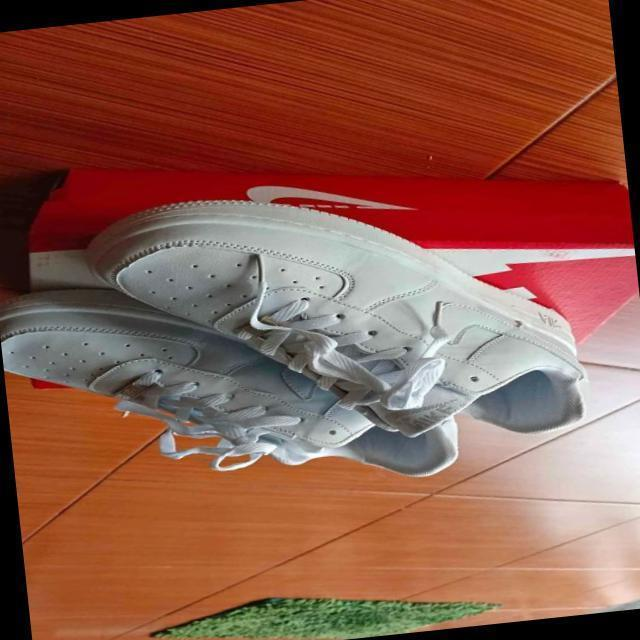nike fake air force: (55, 158, 636, 477), (0, 237, 504, 511)
